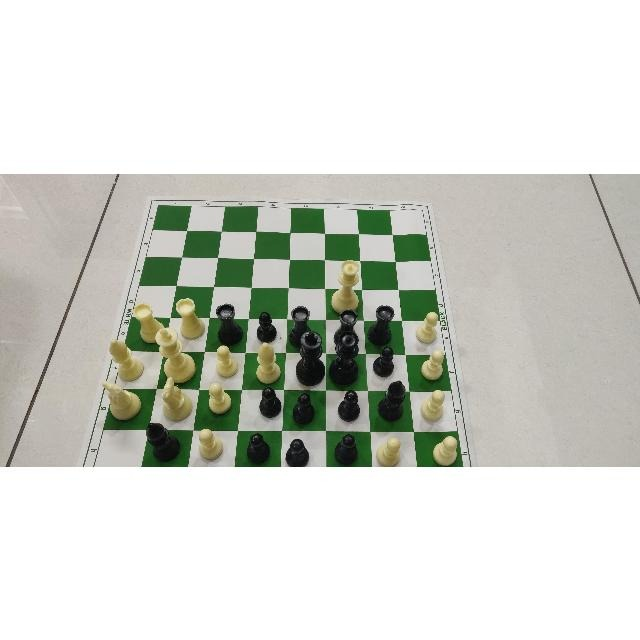black-bishop: (142, 419, 185, 461), (377, 377, 409, 426)
black-king: (291, 334, 324, 386)
black-pawn: (285, 436, 314, 466), (290, 391, 314, 425), (246, 430, 270, 463), (333, 432, 357, 465), (373, 346, 399, 375), (255, 387, 281, 415), (337, 388, 357, 422), (256, 308, 277, 338)
black-queen: (335, 334, 360, 383)
black-rook: (372, 304, 396, 346), (217, 302, 242, 342), (288, 305, 316, 331), (337, 309, 359, 331)
white-bishop: (109, 336, 144, 381), (255, 340, 280, 384)
white-king: (154, 327, 196, 377)
white-knight: (99, 379, 145, 416), (161, 377, 193, 418)
white-pawn: (195, 424, 222, 459), (411, 309, 438, 343), (213, 343, 239, 377), (204, 382, 229, 414), (432, 434, 458, 464), (423, 388, 446, 421), (423, 348, 444, 382), (379, 437, 402, 463)
white-queen: (339, 260, 361, 308)
white-rook: (172, 296, 206, 338), (132, 304, 156, 332)
